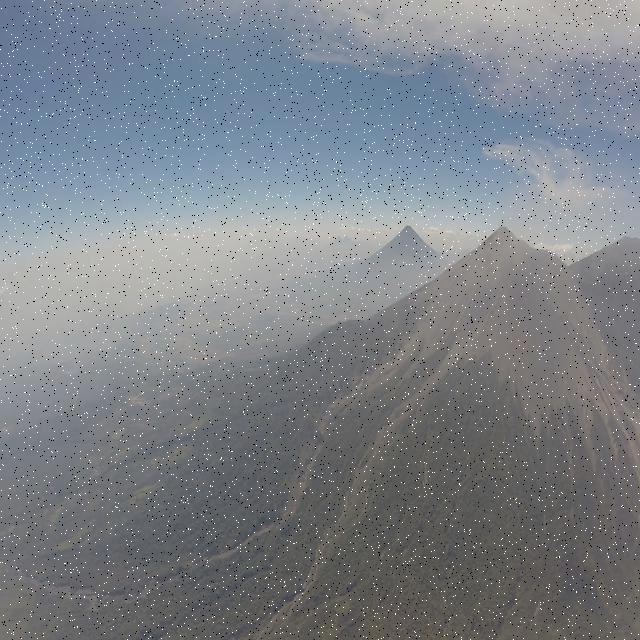Summit: (469, 224, 532, 254)
